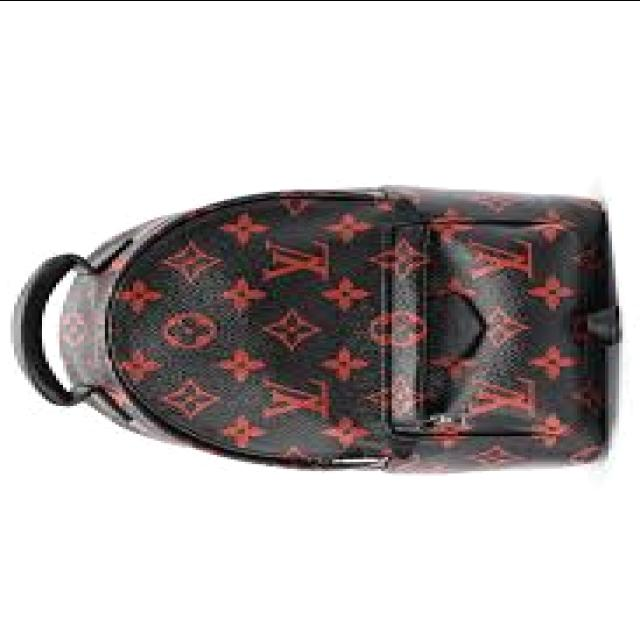backpack: (9, 188, 617, 476)
